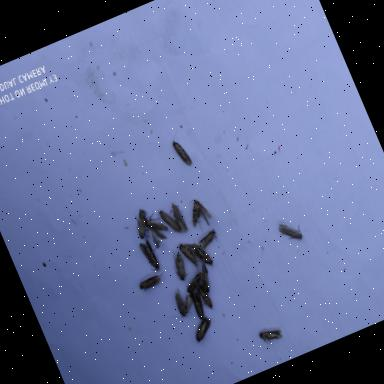pbw: (167, 234, 212, 278), (160, 280, 200, 324), (180, 194, 217, 236), (164, 126, 196, 172), (141, 208, 174, 246), (188, 236, 220, 275), (186, 286, 216, 327), (163, 244, 193, 284), (128, 204, 159, 242), (273, 215, 306, 248), (154, 204, 184, 239), (136, 237, 164, 274), (186, 313, 218, 345), (134, 266, 170, 294), (166, 198, 192, 235), (192, 260, 218, 296), (179, 268, 209, 298), (255, 320, 286, 348), (192, 280, 217, 312), (194, 226, 222, 252)
